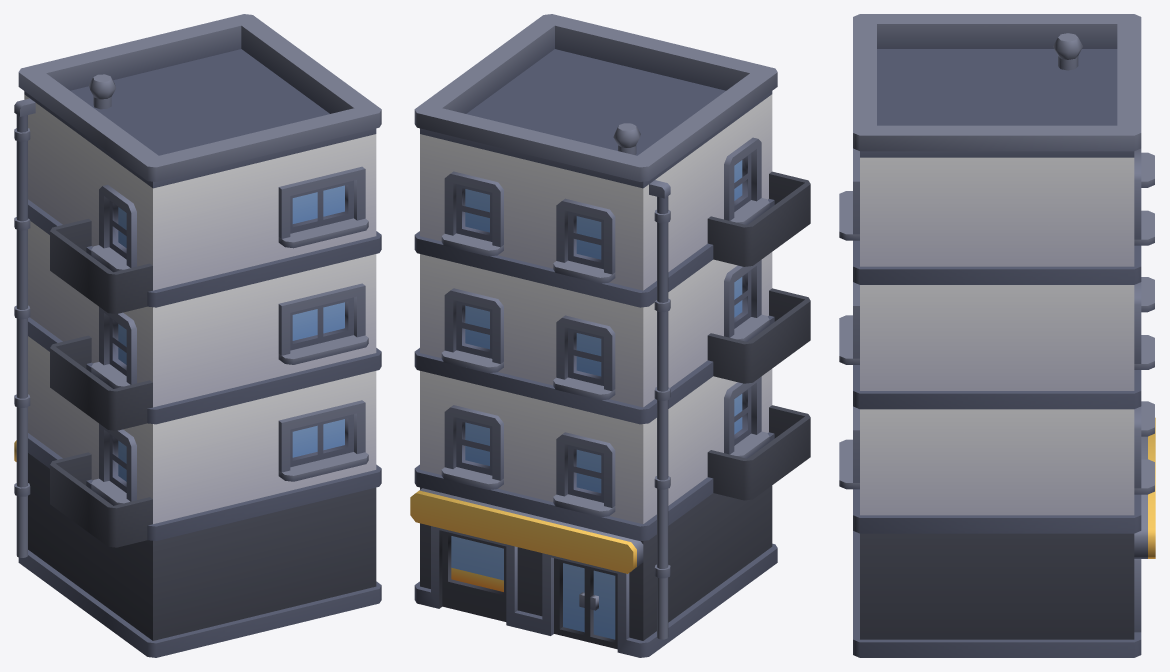
The model's file is city_6.fbx.
3 renders of one model, left to right at view 1: azimuth 30°, elevation 25°; view 2: azimuth 150°, elevation 25°; view 3: azimuth 270°, elevation 25°, orthographic. The views are drawn at different scales.
Visible parts, largest first — view 1: city_6; view 2: city_6; view 3: city_6.
Part boxes in pixels (bbox=[...]): city_6: bbox=[14, 14, 381, 657]; city_6: bbox=[410, 14, 810, 657]; city_6: bbox=[839, 14, 1155, 657].
Bounding box in the file's own units: 0.97 × 1.69 × 0.922.
1 material, 1 textured.
